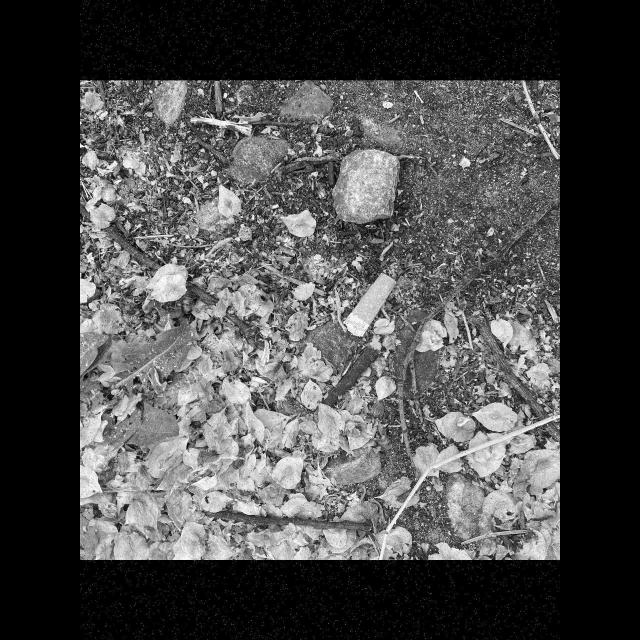cigarette: (342, 272, 397, 336)
